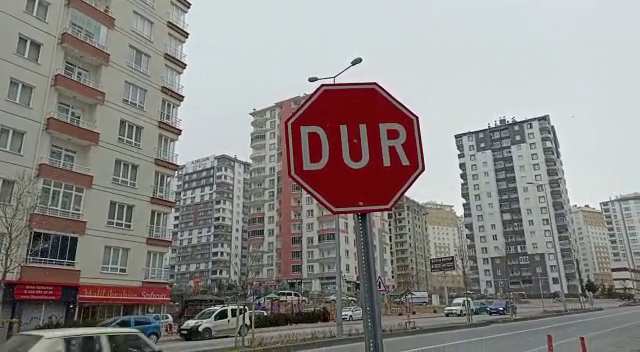stop: (282, 78, 431, 218)
